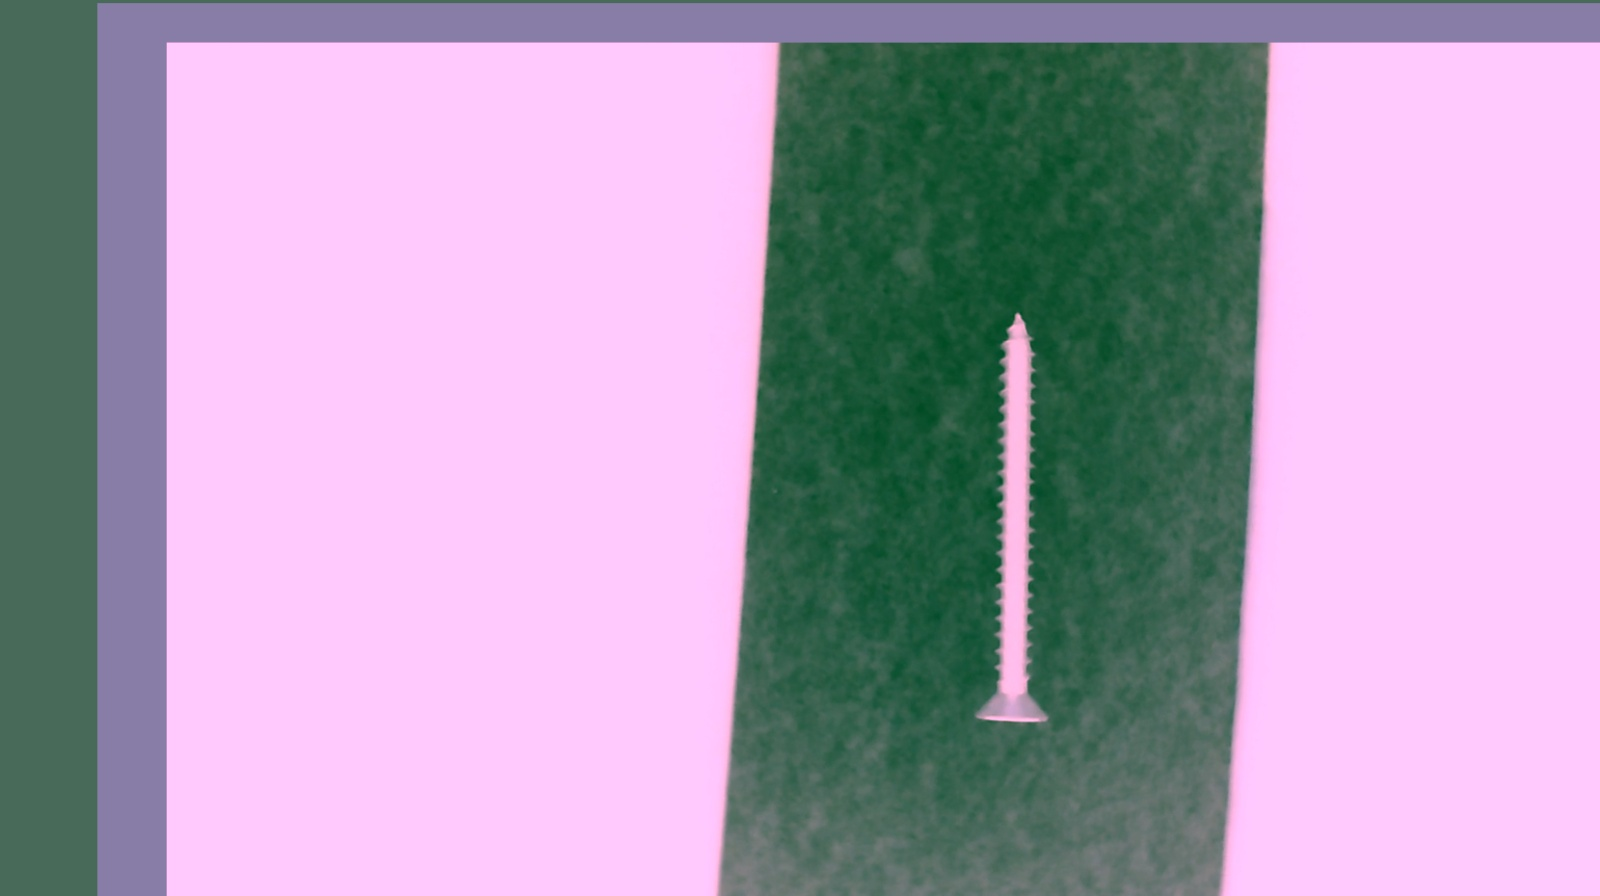S002: (937, 296, 1076, 731)
